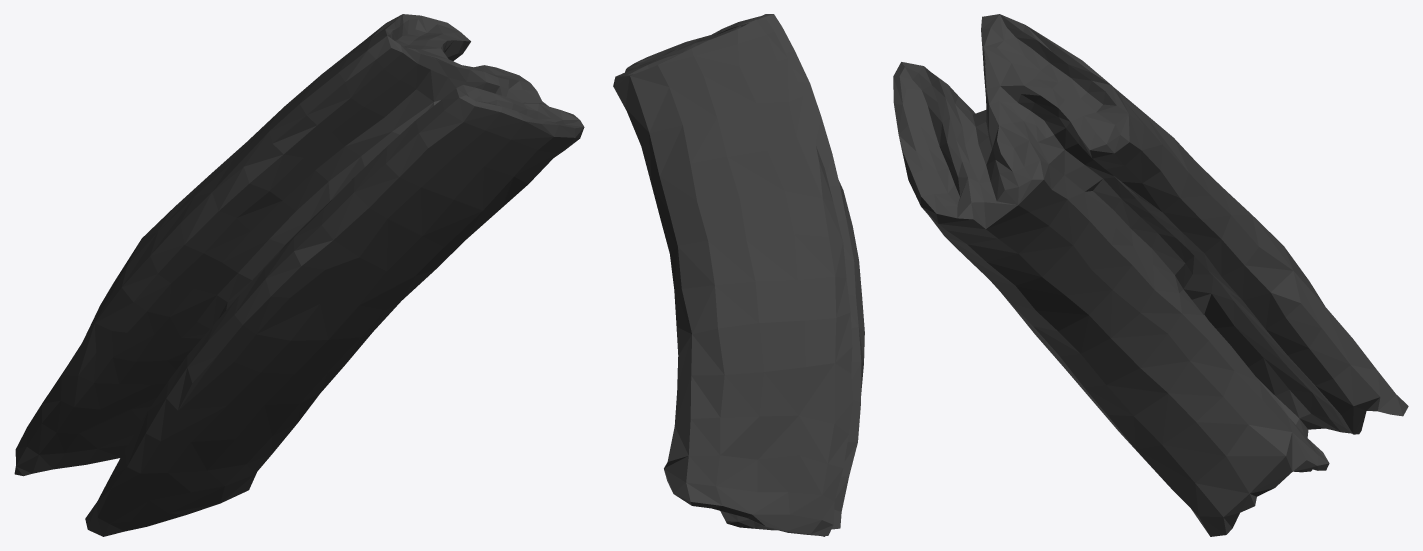
File: Lower_M1.glb
3 views of the same model, side by side, from view 1: azimuth 30°, elevation 25°; view 2: azimuth 150°, elevation 25°; view 3: azimuth 270°, elevation 25° (orthographic). The views are drawn at different scales.
Parts seen in each view (by area): view 1: Lower_M1; view 2: Lower_M1; view 3: Lower_M1.
Boxes of the visible parts, <box> form: Lower_M1: <box>14,14,584,536</box>; Lower_M1: <box>613,14,864,536</box>; Lower_M1: <box>893,14,1408,536</box>.
Size of the model in its own units: 0.6154 by 0.7562 by 0.6455.
Materials: 1 (1 with a texture image).
